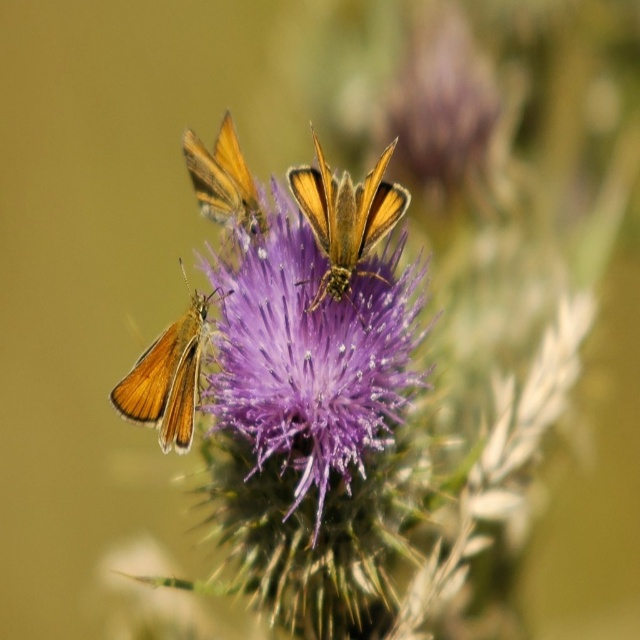Butterfly: (286, 121, 411, 330), (108, 257, 234, 454), (182, 109, 274, 270)
